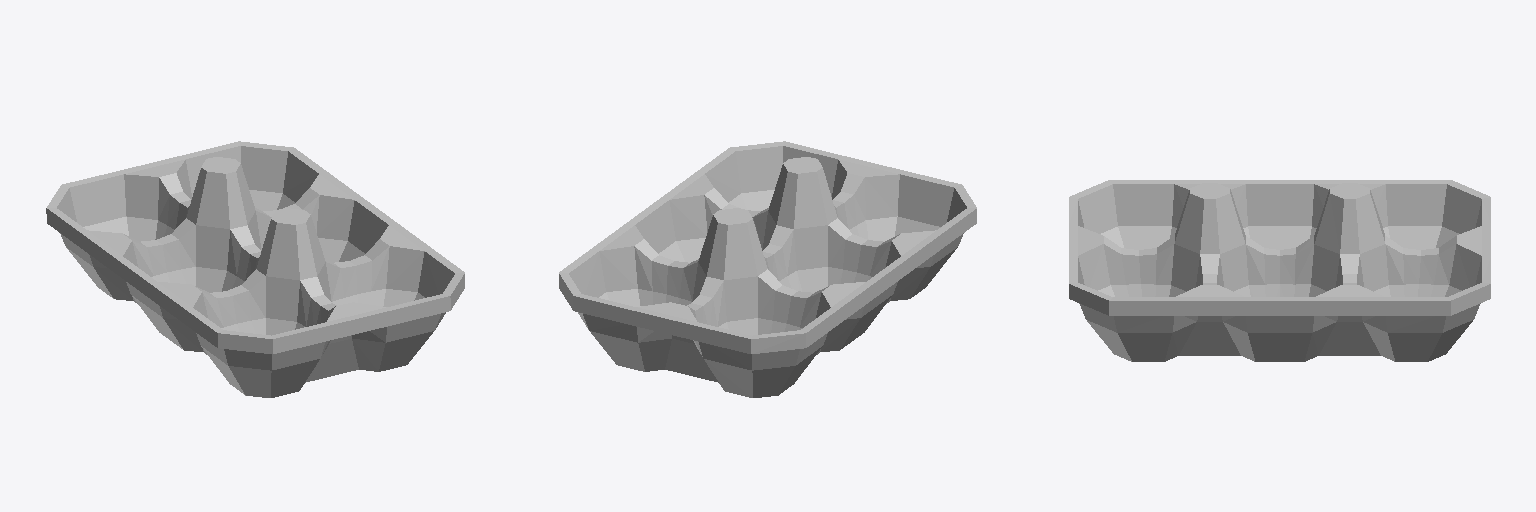
The model's file is TapaHuevos.obj.
3 renders of one model, left to right at view 1: azimuth 30°, elevation 25°; view 2: azimuth 150°, elevation 25°; view 3: azimuth 270°, elevation 25°, orthographic.
Visible parts, largest first — view 1: hypercasual_prop008; view 2: hypercasual_prop008; view 3: hypercasual_prop008.
Part boxes in pixels (x1,y1,x2,y2): hypercasual_prop008: (46, 141, 464, 397); hypercasual_prop008: (559, 141, 976, 397); hypercasual_prop008: (1069, 180, 1490, 361).
Bounding box in the file's own units: 1.13 × 0.5665 × 1.67.